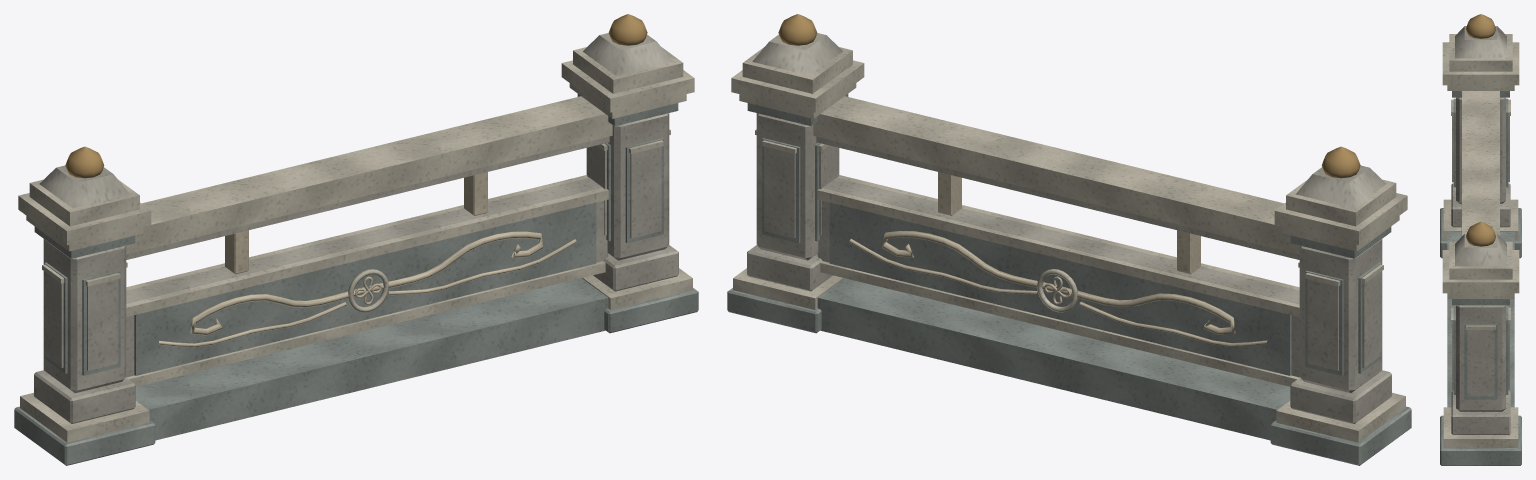
The picture shows the model from 3 angles, left to right: view 1: azimuth 30°, elevation 25°; view 2: azimuth 150°, elevation 25°; view 3: azimuth 270°, elevation 25°; orthographic projection. The views are drawn at different scales.
Visible parts, largest first — view 1: D01_cool, D01_light, D01_stone, D01_relief, D01_motif; view 2: D01_cool, D01_light, D01_stone, D01_relief, D01_motif; view 3: D01_light, D01_stone, D01_cool, D01_motif.
Boxes of the visible parts, bbox=[...] form: D01_cool: bbox=[14, 94, 698, 465]; D01_light: bbox=[18, 47, 694, 442]; D01_stone: bbox=[34, 33, 678, 423]; D01_relief: bbox=[158, 172, 576, 347]; D01_motif: bbox=[65, 14, 647, 178]; D01_cool: bbox=[727, 94, 1411, 465]; D01_light: bbox=[731, 47, 1407, 442]; D01_stone: bbox=[747, 33, 1391, 423]; D01_relief: bbox=[849, 172, 1267, 347]; D01_motif: bbox=[778, 14, 1360, 178]; D01_light: bbox=[1442, 34, 1519, 447]; D01_stone: bbox=[1451, 26, 1510, 434]; D01_cool: bbox=[1440, 91, 1521, 465]; D01_motif: bbox=[1465, 14, 1496, 246].
Bounding box in the file's own units: 3.08 × 1.35 × 0.44.
Materials: 5 (4 with a texture image).
